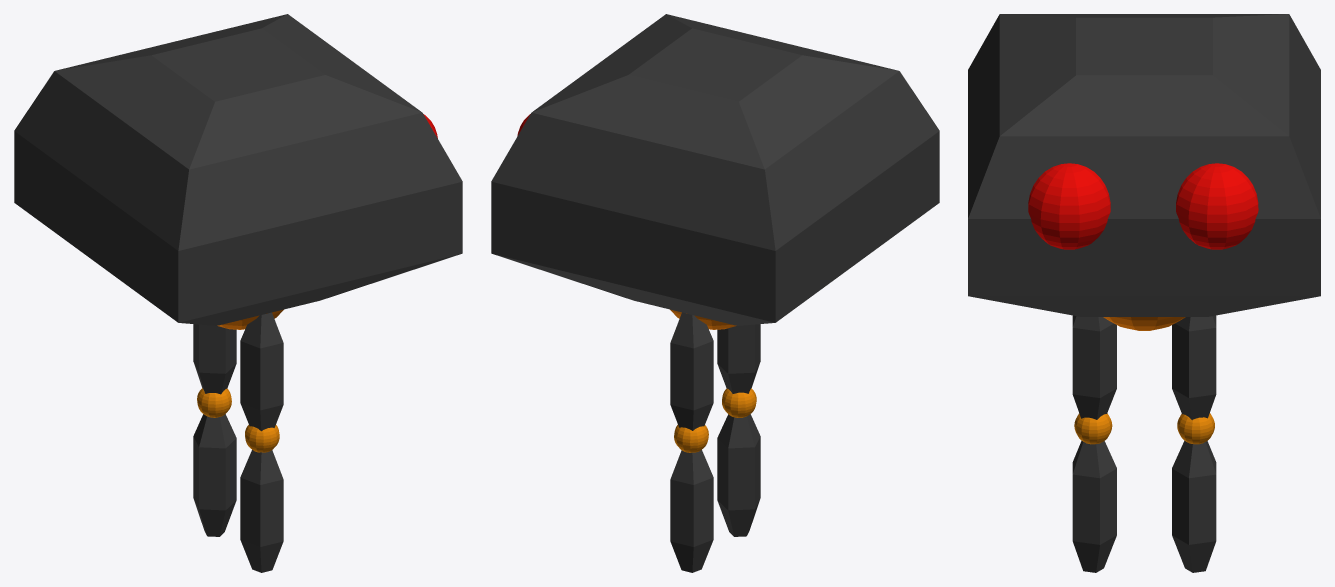
The model's file is enemy1.fbx.
3 views of the same model, side by side, from view 1: azimuth 30°, elevation 25°; view 2: azimuth 150°, elevation 25°; view 3: azimuth 270°, elevation 25° (orthographic). The views are drawn at different scales.
Visible parts, largest first — view 1: Cube, right leg, left leg, right thigh, left thigh, left knee, right knee; view 2: Cube, left leg, right leg, left thigh, right thigh, right knee, left knee; view 3: Cube, Sphere.002, Sphere.001, right leg, left leg, left thigh, right thigh, right knee, left knee, torso.
Boxes of the visible parts, box(x1,y1,x2,y2) form: Cube: box(14, 14, 462, 325); right leg: box(240, 450, 283, 572); left leg: box(193, 414, 236, 536); right thigh: box(240, 312, 283, 431); left thigh: box(193, 324, 236, 394); left knee: box(197, 388, 231, 417); right knee: box(245, 425, 279, 452); Cube: box(491, 14, 939, 325); left leg: box(670, 450, 713, 572); right leg: box(717, 414, 760, 536); left thigh: box(670, 312, 713, 430); right thigh: box(717, 324, 760, 393); right knee: box(722, 388, 756, 417); left knee: box(674, 424, 708, 452); Cube: box(968, 14, 1320, 316); Sphere.002: box(1176, 163, 1258, 249); Sphere.001: box(1028, 163, 1110, 249); right leg: box(1072, 440, 1116, 572); left leg: box(1172, 440, 1216, 572); left thigh: box(1172, 315, 1216, 419); right thigh: box(1072, 315, 1116, 419); right knee: box(1074, 413, 1112, 444); left knee: box(1177, 413, 1214, 444); torso: box(1103, 317, 1185, 330).
Bounding box in the file's own units: 150 × 231 × 142.
